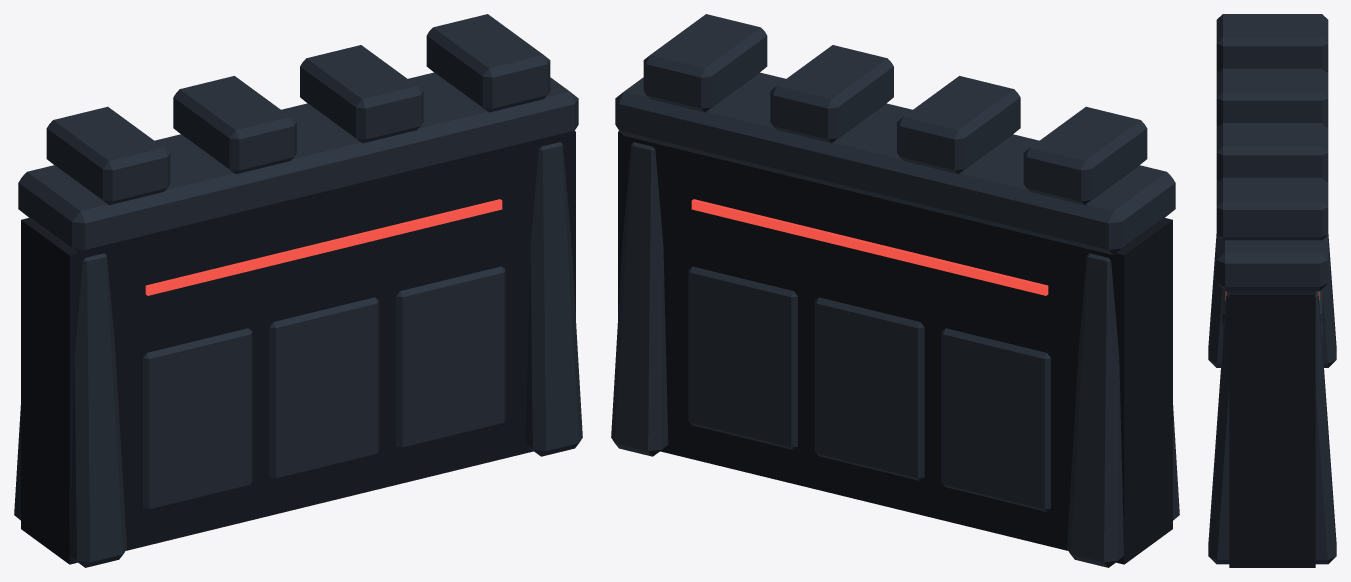
File: Mono_Wall.fbx
3 views of the same model, side by side, from view 1: azimuth 30°, elevation 25°; view 2: azimuth 150°, elevation 25°; view 3: azimuth 270°, elevation 25° (orthographic). The views are drawn at different scales.
Parts seen in each view (by area): view 1: Mono_Wall; view 2: Mono_Wall; view 3: Mono_Wall.
Boxes of the visible parts, bbox=[...] form: Mono_Wall: bbox=[14, 14, 582, 567]; Mono_Wall: bbox=[611, 14, 1179, 567]; Mono_Wall: bbox=[1208, 14, 1336, 567].
Size of the model in its own units: 12 by 2.97 by 9.
